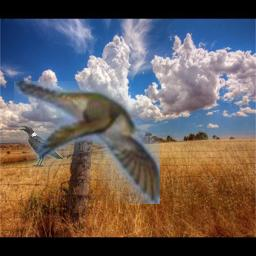Crow: (19, 125, 63, 166)
Cuckoo: (14, 81, 160, 204)
